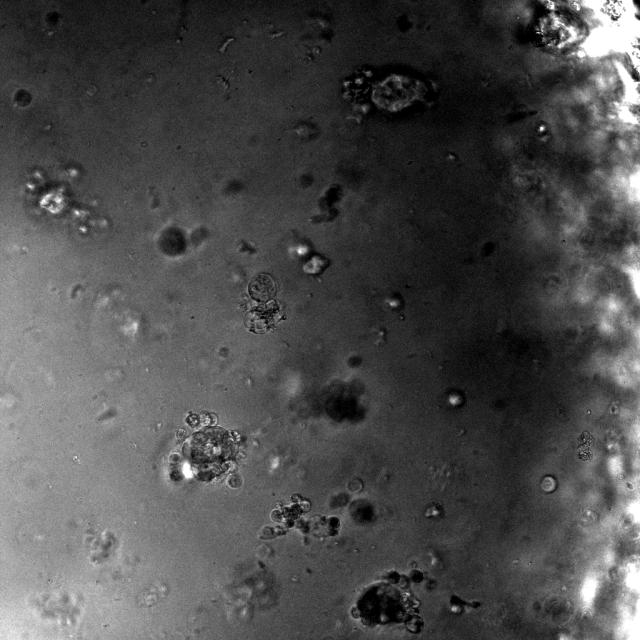organoid: (24, 161, 108, 235), (168, 411, 245, 488), (341, 66, 439, 123), (351, 569, 436, 633), (258, 493, 341, 539), (518, 0, 588, 51), (222, 560, 279, 622), (290, 378, 366, 423), (239, 272, 286, 334), (329, 478, 381, 524), (32, 590, 82, 626), (288, 234, 329, 276), (309, 183, 342, 222), (85, 530, 117, 563), (158, 227, 186, 256), (578, 431, 594, 461), (13, 88, 32, 108), (44, 11, 61, 31), (540, 475, 558, 493), (348, 354, 362, 367)
